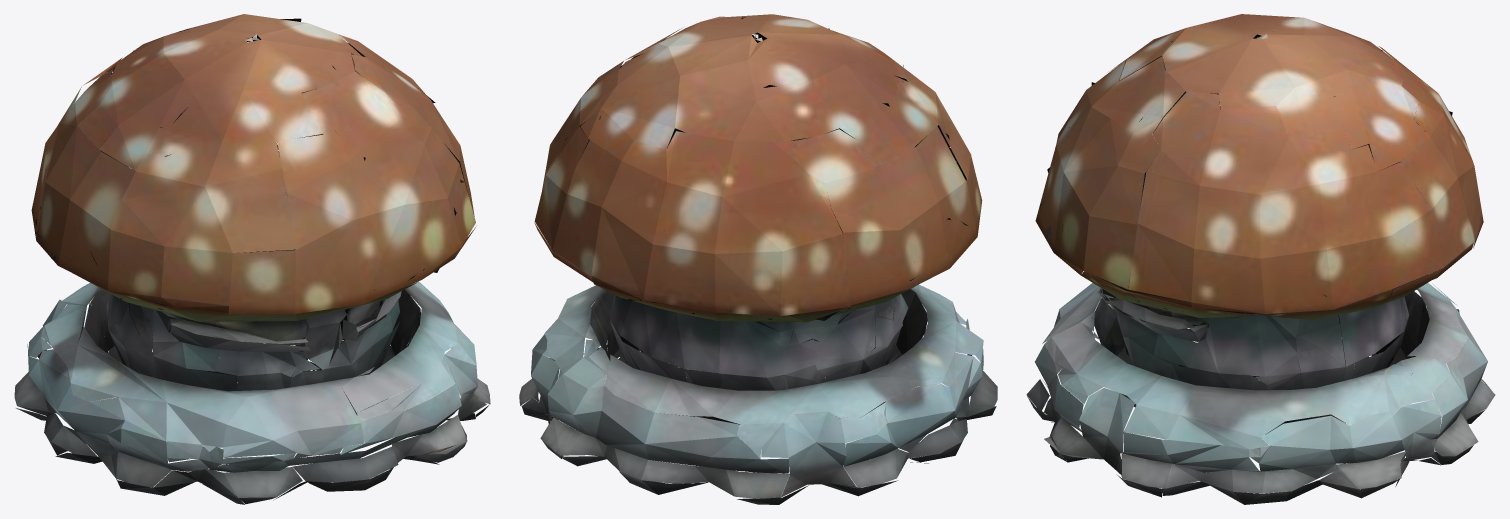
The picture shows the model from 3 angles, left to right: view 1: azimuth 30°, elevation 25°; view 2: azimuth 150°, elevation 25°; view 3: azimuth 270°, elevation 25°; orthographic projection.
Visible parts, largest first — view 1: world; view 2: world; view 3: world.
Part boxes in pixels (<box>): world: <box>14,14,490,504</box>; world: <box>519,14,997,504</box>; world: <box>1026,14,1495,504</box>.
Size of the model in its own units: 0.9998 by 0.8928 by 0.9983.
Materials: 1 (1 with a texture image).
